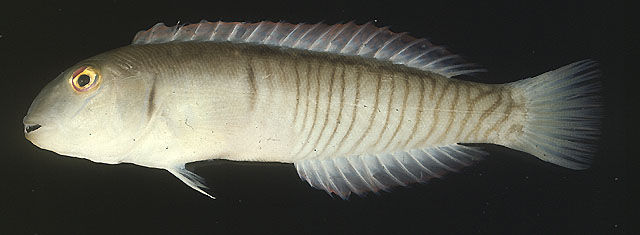fish: (24, 19, 602, 201)
